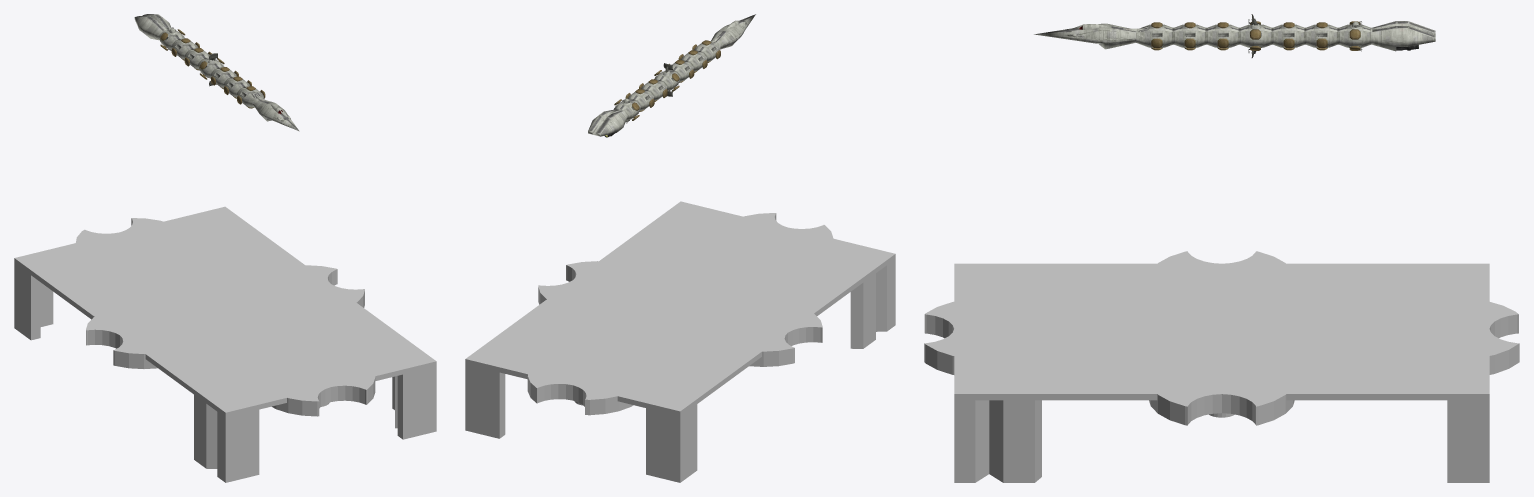
3 views of the same model, side by side, from view 1: azimuth 30°, elevation 25°; view 2: azimuth 150°, elevation 25°; view 3: azimuth 270°, elevation 25° (orthographic). The views are drawn at different scales.
Visible parts, largest first — view 1: Base_-_Small_Plane.001, ipv2-stealth; view 2: Base_-_Small_Plane.001, ipv2-stealth; view 3: Base_-_Small_Plane.001, ipv2-stealth.
Part boxes in pixels (x1,y1,x2,y2): Base_-_Small_Plane.001: (14, 206, 436, 482); ipv2-stealth: (134, 14, 299, 131); Base_-_Small_Plane.001: (465, 201, 895, 482); ipv2-stealth: (588, 14, 755, 137); Base_-_Small_Plane.001: (924, 251, 1519, 482); ipv2-stealth: (1034, 14, 1435, 57).
Size of the model in its own units: 1.92 by 2.31 by 3.11.
